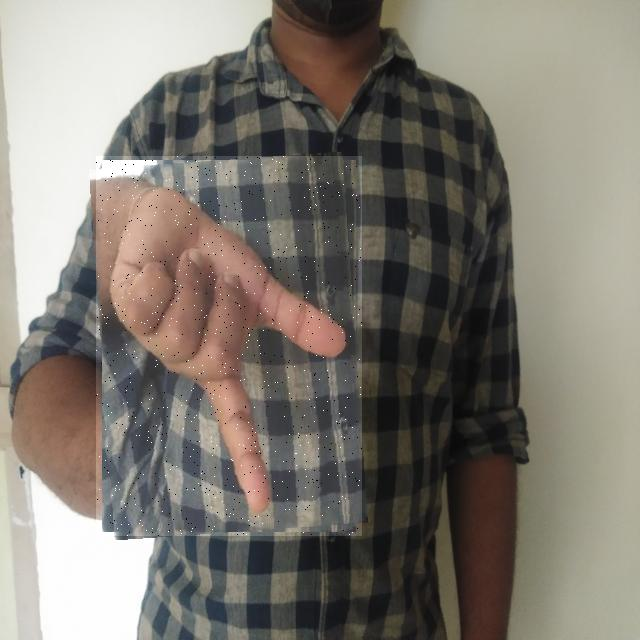L: (96, 156, 362, 536)
